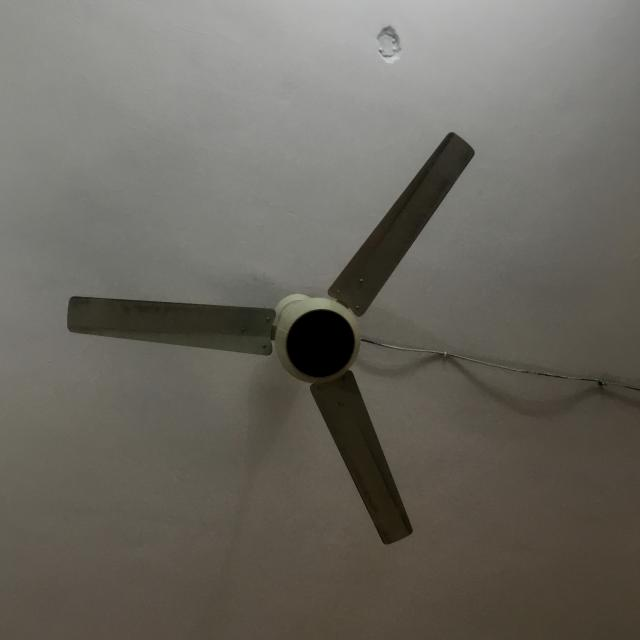off: (58, 123, 481, 556)
